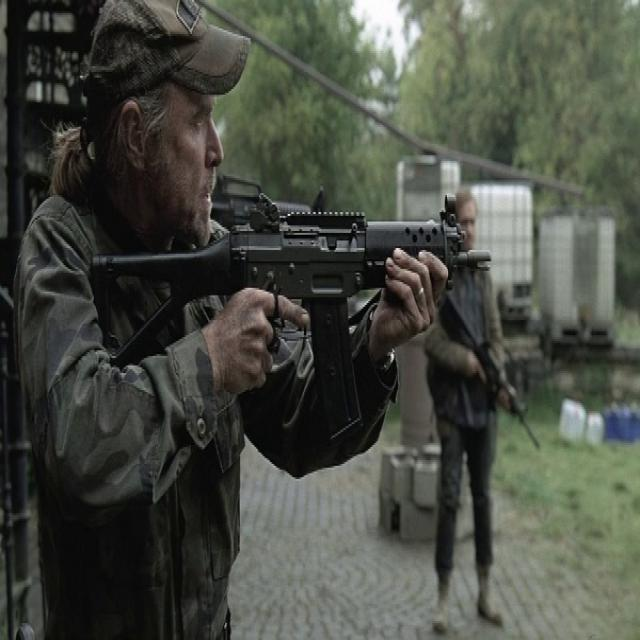rifle: (87, 193, 498, 355)
